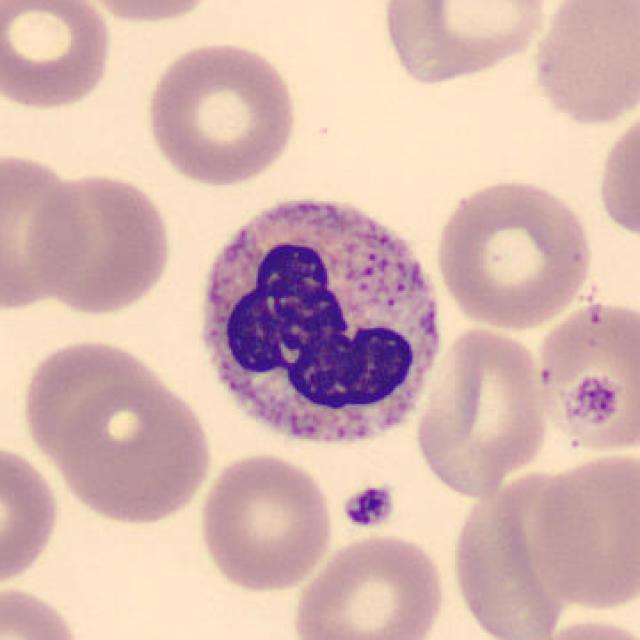Neutrophil: (186, 183, 452, 462)
Platelets: (566, 366, 627, 431), (338, 481, 398, 531)
RBC: (430, 173, 598, 333), (48, 377, 215, 527), (412, 323, 553, 499), (140, 37, 300, 189), (25, 168, 176, 318), (194, 450, 338, 594), (24, 344, 175, 474), (524, 448, 640, 613), (288, 529, 450, 640), (530, 296, 640, 457), (0, 146, 94, 314), (379, 0, 553, 86), (528, 0, 638, 129), (0, 0, 116, 115), (0, 440, 62, 590), (594, 102, 638, 245), (0, 582, 87, 640), (72, 0, 229, 26), (531, 615, 640, 639)
